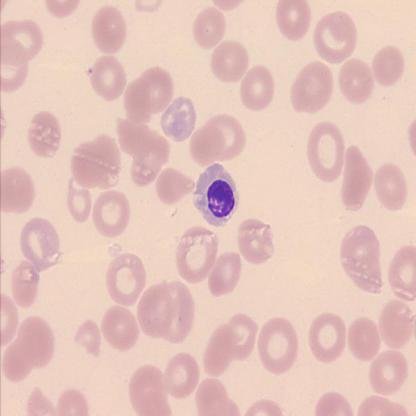NRC: (192, 162, 242, 228)
